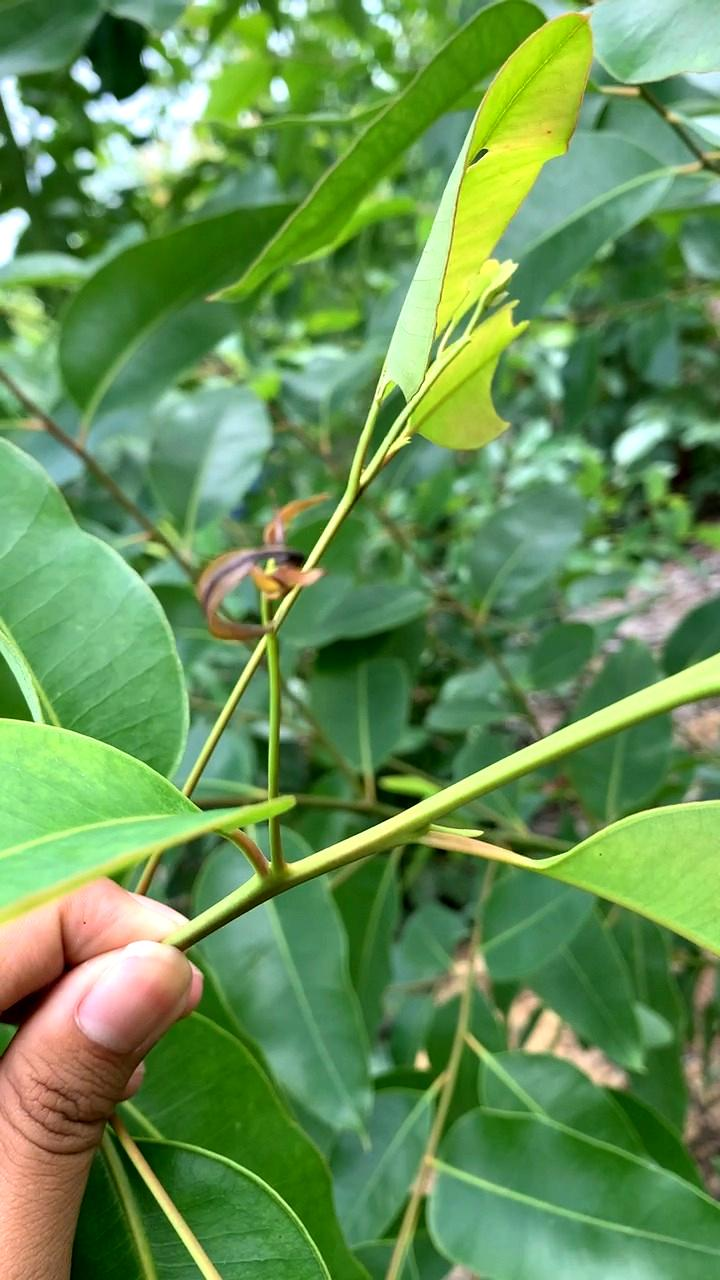Helopeltis-Withered Sprout: (188, 481, 343, 653)
